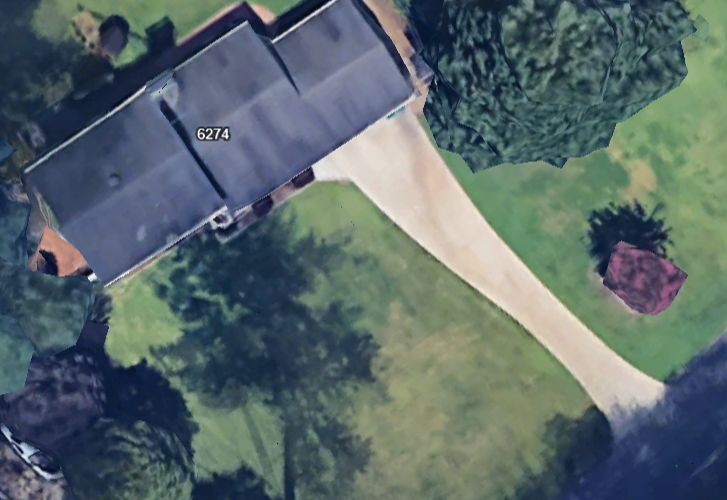driveway: (326, 95, 668, 454)
